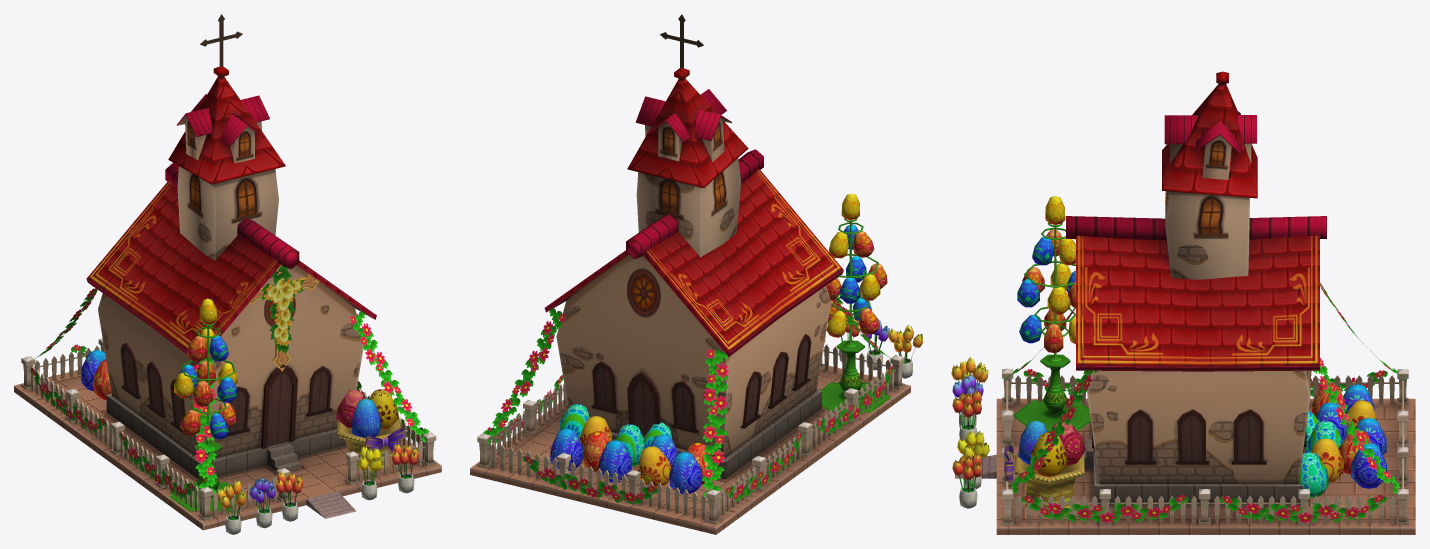
The model's file is Church_Decoration.FBX.
The picture shows the model from 3 angles, left to right: view 1: azimuth 30°, elevation 25°; view 2: azimuth 150°, elevation 25°; view 3: azimuth 270°, elevation 25°; orthographic projection. The views are drawn at different scales.
Visible parts, largest first — view 1: Church, Egg_Tree_002, Flower_Rope_Church, Egg_Basket, Cross_002, Eggs, Line1639, Line1638, Line1642, Line1637, Line1640; view 2: Church, Flower_Rope_Church, Eggs, Egg_Tree_002, Line1639; view 3: Church, Flower_Rope_Church, Egg_Tree_002, Eggs, Egg_Basket, Line1642, Line1637, Line1638, Line1640, Line1639.
Boxes of the visible parts, x1,y1,x2,y2 form: Church: [14, 14, 441, 530]; Egg_Tree_002: [169, 298, 247, 511]; Flower_Rope_Church: [30, 286, 429, 498]; Egg_Basket: [336, 389, 406, 473]; Cross_002: [249, 265, 319, 371]; Eggs: [81, 350, 111, 400]; Line1639: [217, 480, 246, 534]; Line1638: [358, 446, 381, 500]; Line1642: [391, 443, 419, 493]; Line1637: [275, 472, 303, 521]; Line1640: [249, 478, 275, 528]; Church: [470, 14, 910, 534]; Flower_Rope_Church: [483, 283, 895, 503]; Eggs: [550, 404, 713, 494]; Egg_Tree_002: [820, 193, 891, 412]; Line1639: [888, 325, 922, 378]; Church: [955, 71, 1415, 534]; Flower_Rope_Church: [1004, 283, 1407, 523]; Egg_Tree_002: [1013, 196, 1090, 431]; Eggs: [1299, 384, 1387, 497]; Egg_Basket: [1004, 420, 1085, 511]; Line1642: [952, 452, 981, 508]; Line1637: [952, 389, 981, 442]; Line1638: [957, 431, 989, 488]; Line1640: [952, 374, 983, 428]; Line1639: [951, 357, 988, 382].
Size of the model in its own units: 2.69 by 4.36 by 4.02.
